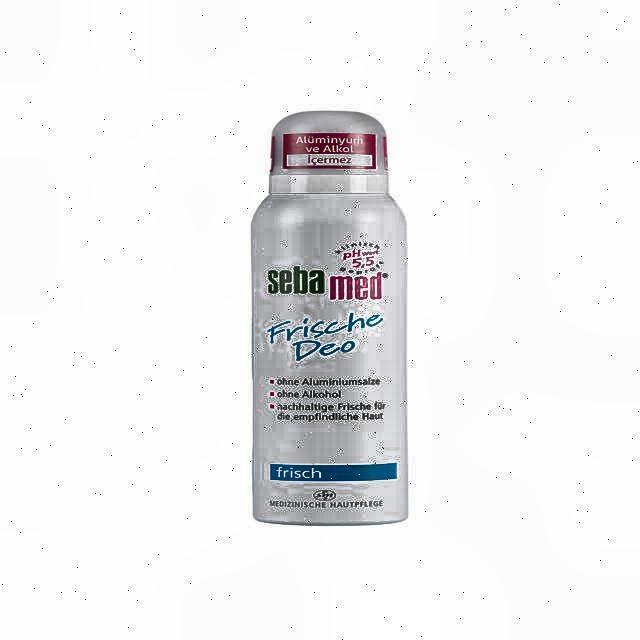plastic: (247, 105, 411, 529)
